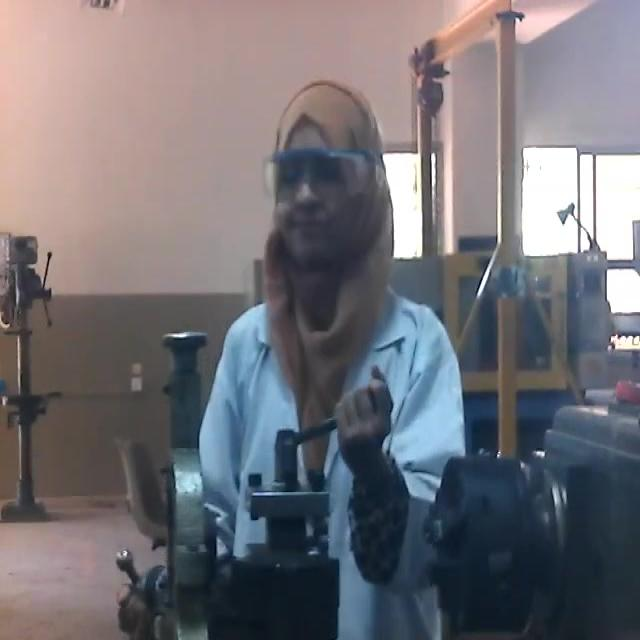googles: (255, 150, 379, 212)
labcoat: (195, 284, 466, 640)
